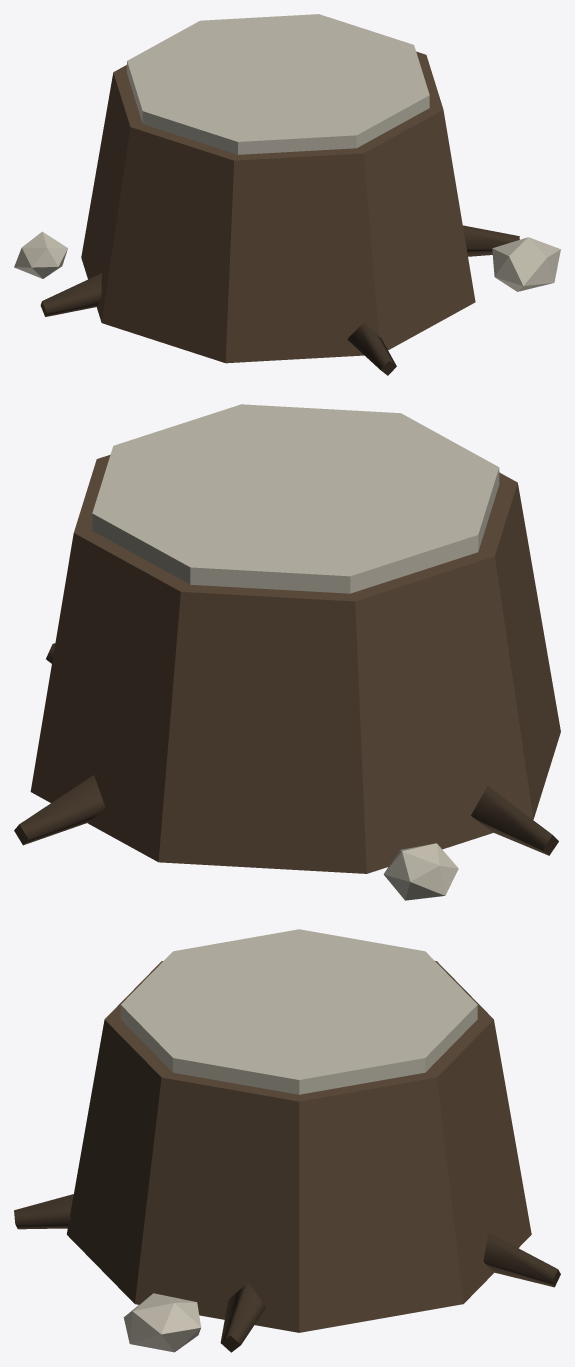
The model's file is land-forest-26.glb.
3 renders of one model, top to bottom at view 1: azimuth 30°, elevation 25°; view 2: azimuth 150°, elevation 25°; view 3: azimuth 270°, elevation 25°, orthographic. The views are drawn at different scales.
Visible parts, largest first — view 1: land.forest.26; view 2: land.forest.26; view 3: land.forest.26.
Boxes of the visible parts, bbox=[...] form: land.forest.26: bbox=[14, 14, 560, 375]; land.forest.26: bbox=[14, 404, 560, 900]; land.forest.26: bbox=[14, 929, 560, 1352].
Size of the model in its own units: 1.38 by 0.6368 by 1.32.
